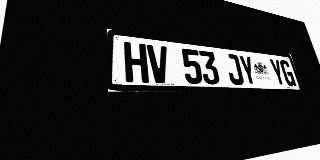3: (198, 50, 220, 85)
5: (181, 48, 204, 84)
G: (279, 60, 297, 86)
H: (124, 42, 149, 83)
J: (224, 53, 245, 85)
V: (146, 44, 171, 83)
Y: (238, 55, 258, 85), (268, 58, 287, 86)
